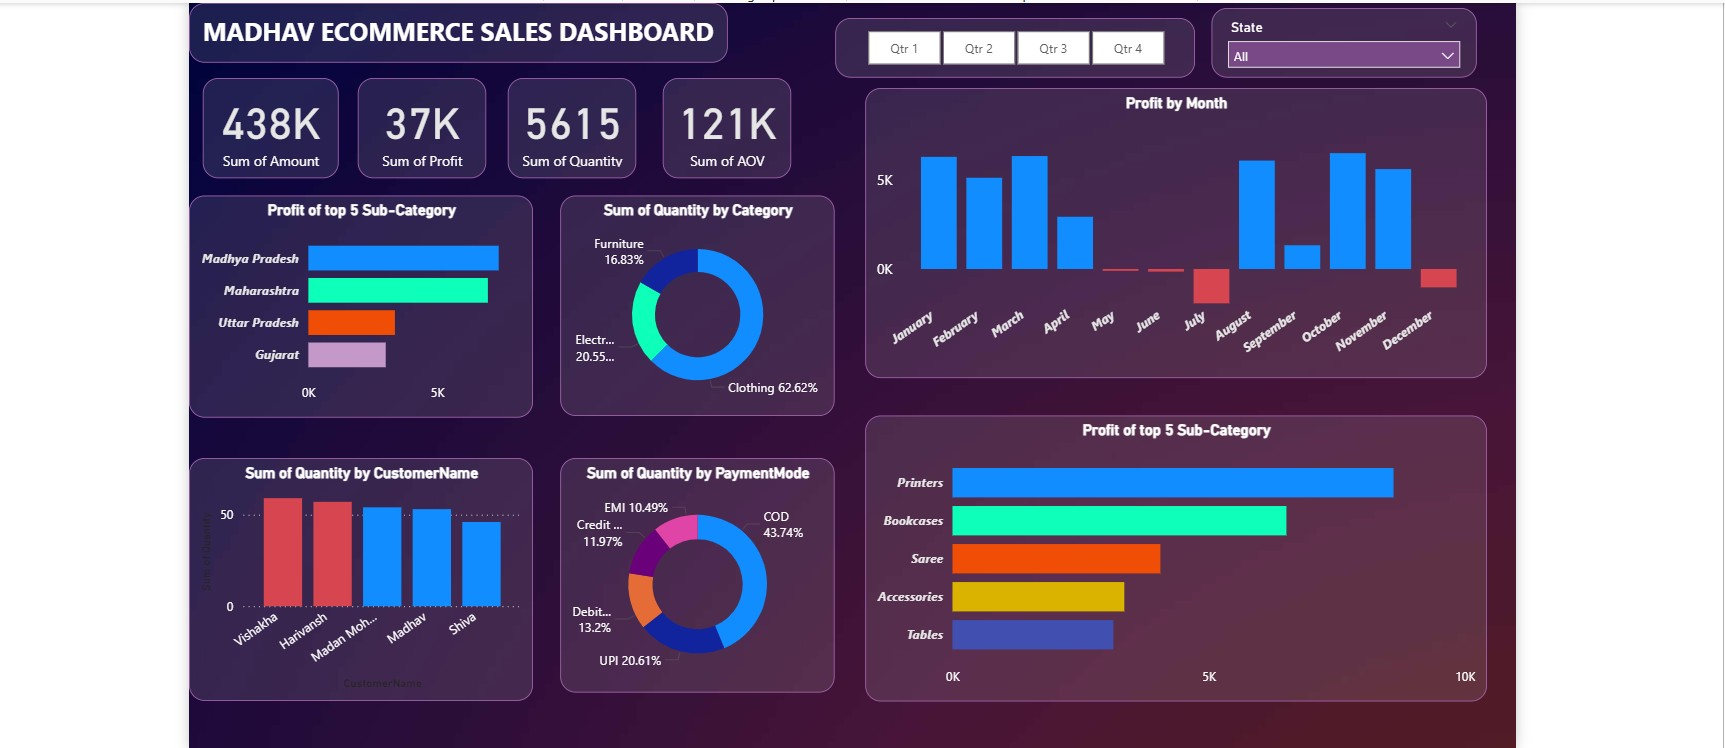

This screenshot's page, from the dashboard's own definition file:
{"tool":"powerbi","page":{"name":"Page 1","canvas":[1280,720],"ordinal":0},"visuals":[{"type":"textbox","box":[0,0,520,57.9],"z":0},{"type":"columnChart","title":"Profit by Month","fields":{"Category":["Orders.Order Date.Variation.Date Hierarchy.Month"],"Y":["Sum(Details.Profit)"]},"box":[652.7,82,599.6,279.9],"z":1000},{"type":"barChart","title":"Profit of top 5 Sub-Category","fields":{"Category":["Details.Sub-Category"],"Y":["Sum(Details.Profit)"]},"box":[652.7,398.1,599.6,276.3],"z":2000},{"type":"donutChart","fields":{"Category":["Details.Category"],"Y":["Sum(Details.Quantity)"]},"box":[358.1,185.2,264.8,212.7],"z":3000},{"type":"donutChart","fields":{"Y":["Sum(Details.Quantity)"],"Category":["Details.PaymentMode"]},"box":[358.1,439.1,264.8,226.4],"z":4000},{"type":"card","fields":{"Values":["Sum(Details.Amount)"]},"box":[13.3,72.4,131.5,96.5],"z":5000},{"type":"card","fields":{"Values":["Sum(Details.Profit)"]},"box":[162.9,72.4,124.3,96.5],"z":6000},{"type":"card","fields":{"Values":["Sum(Details.Quantity)"]},"box":[307.6,72.4,124.3,96.5],"z":7000},{"type":"card","fields":{"Values":["Sum(Details.AOV)"]},"box":[457.2,72.4,124.3,96.5],"z":8000},{"type":"barChart","title":"Profit of top 5 Sub-Category","fields":{"Category":["Orders.State"],"Y":["Sum(Details.Profit)"]},"box":[0,185.2,332.1,214.1],"z":9000},{"type":"columnChart","fields":{"Category":["Orders.CustomerName"],"Y":["Sum(Details.Quantity)"]},"box":[0,439.1,332.1,234.6],"z":10000},{"type":"slicer","fields":{"Values":["Orders.Order Date.Variation.Date Hierarchy.Quarter"]},"box":[623.7,14.5,347.5,57.9],"z":11000},{"type":"slicer","fields":{"Values":["Orders.State"]},"box":[986.9,4.8,255.8,67.6],"z":12000}]}

Visuals, with their boxes on the page's 1280x720 design canvas (x1, y1, x2, y2). These are canvas units, not pixel positions in the 1725x748 screenshot, which may show the page scaled, cropped or inside an application window:
textbox: box=[0, 0, 520, 58]
"Profit by Month" columnChart: box=[653, 82, 1252, 362]
"Profit of top 5 Sub-Category" barChart: box=[653, 398, 1252, 674]
donutChart - Details.Category x Sum(Details.Quantity): box=[358, 185, 623, 398]
donutChart - Sum(Details.Quantity) x Details.PaymentMode: box=[358, 439, 623, 666]
card - Sum(Details.Amount): box=[13, 72, 145, 169]
card - Sum(Details.Profit): box=[163, 72, 287, 169]
card - Sum(Details.Quantity): box=[308, 72, 432, 169]
card - Sum(Details.AOV): box=[457, 72, 582, 169]
"Profit of top 5 Sub-Category" barChart: box=[0, 185, 332, 399]
columnChart - Orders.CustomerName x Sum(Details.Quantity): box=[0, 439, 332, 674]
slicer - Orders.Order Date.Variation.Date Hierarchy.Quarter: box=[624, 14, 971, 72]
slicer - Orders.State: box=[987, 5, 1243, 72]
